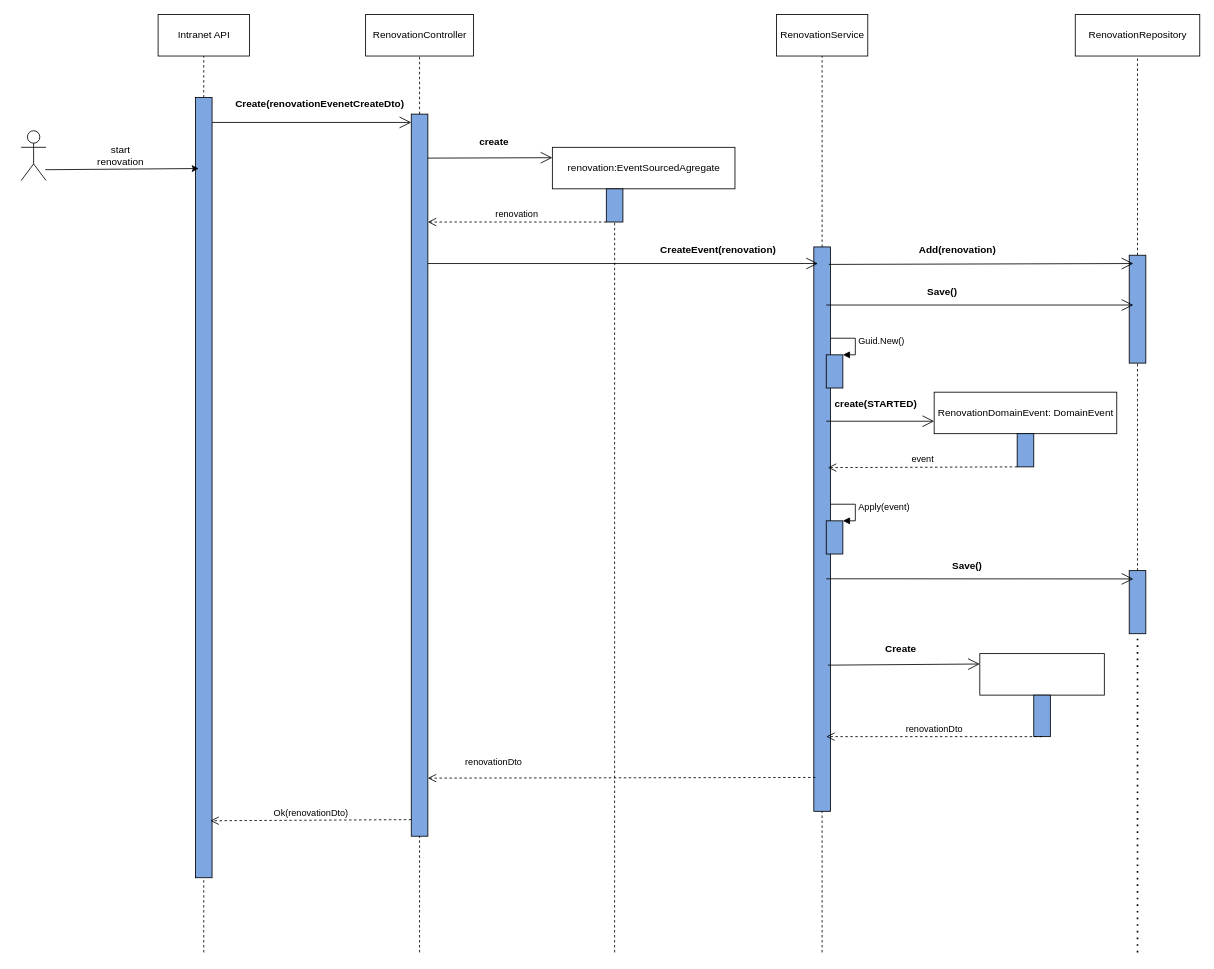
The diagram is 1214 pixels wide and 969 high, and some of its shapes have lost their labels. The shapes that lost their labels are listed below. From the top down, each one's box as (x1, y1, x2, y2) in pixels, then its label:
(20, 130, 46, 181): Manager
(979, 653, 1104, 695): RenovationEventDto
